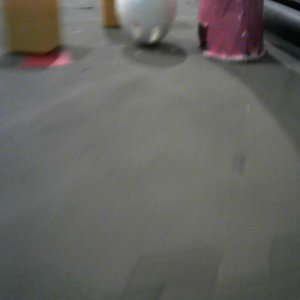right: (198, 1, 269, 62)
